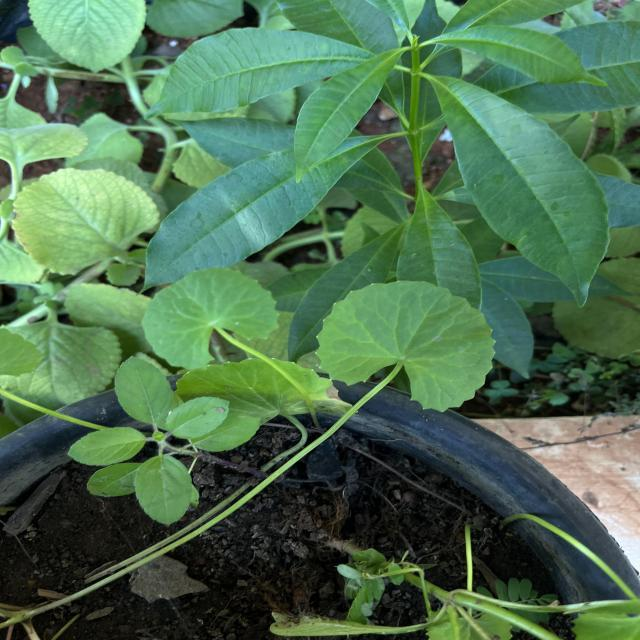Centella asiatica: (310, 276, 500, 415)
